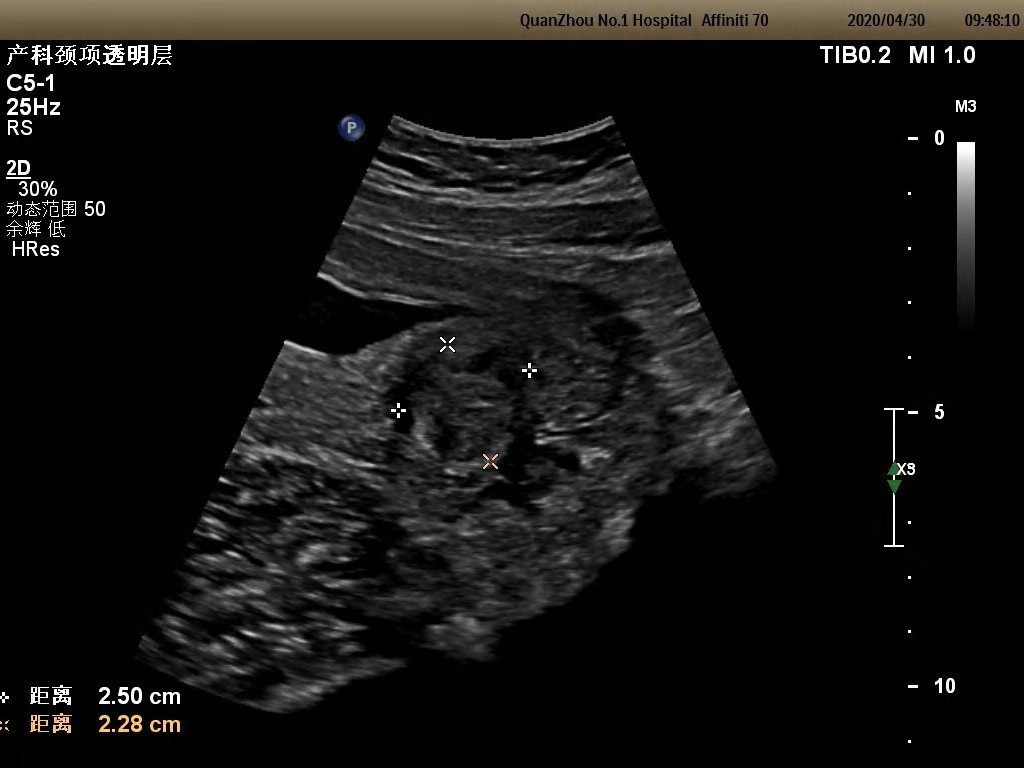肌瘤: (396, 338, 528, 472)
